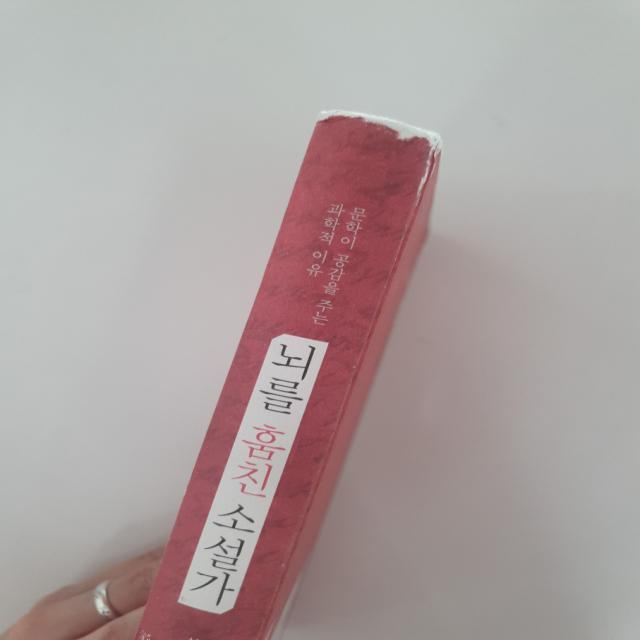Wornout: (309, 103, 444, 155), (384, 212, 417, 291), (411, 153, 436, 205), (347, 355, 364, 375), (274, 555, 292, 571)
